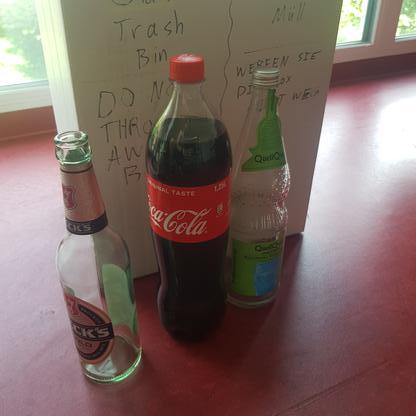coca-cola: (141, 50, 235, 349)
